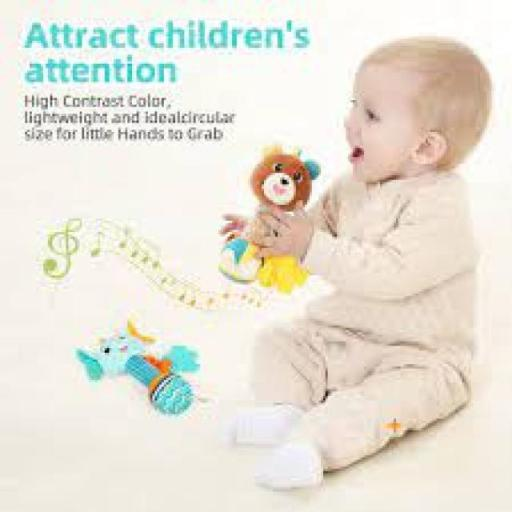baby: (219, 34, 491, 487)
